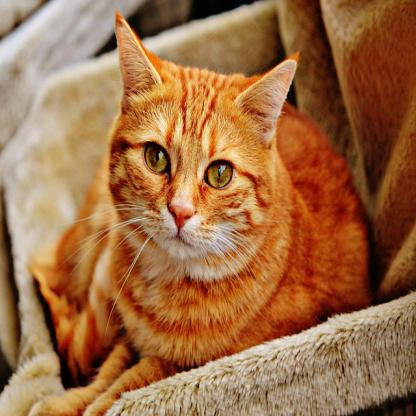cat: (112, 12, 298, 336)
